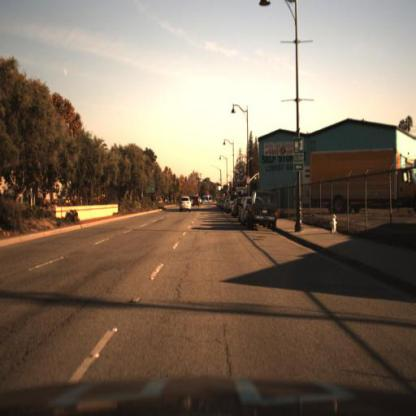car: (248, 190, 283, 226), (241, 195, 251, 229), (177, 195, 191, 217), (191, 193, 203, 210)
truck: (300, 135, 416, 233), (308, 146, 416, 218)
